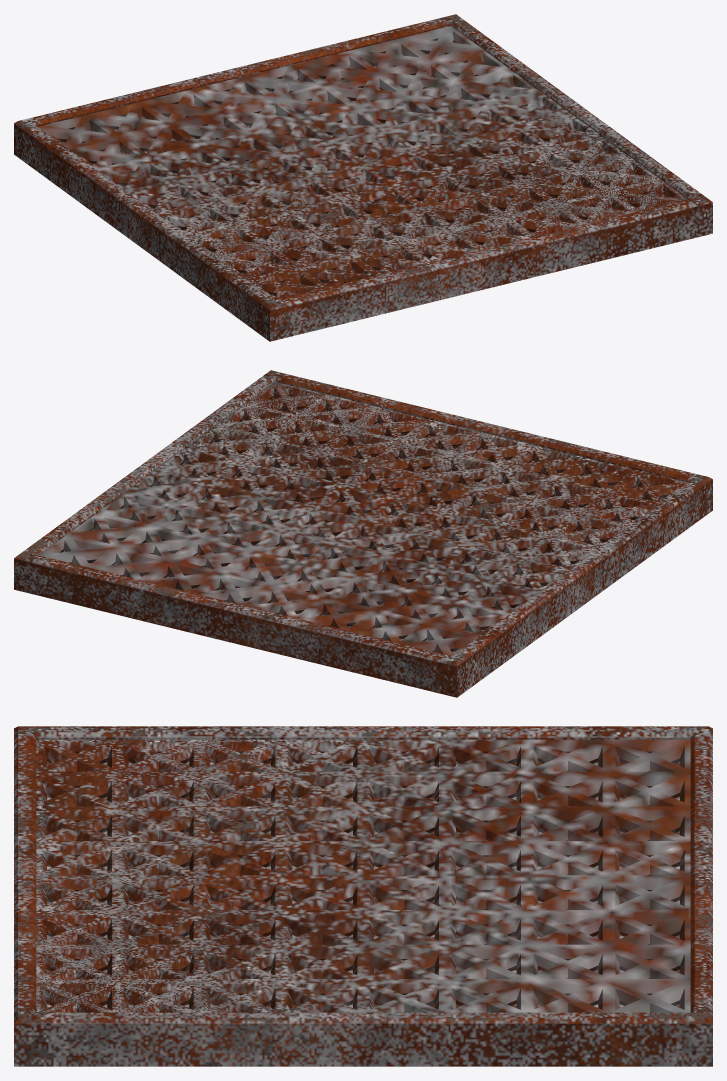
File: Elevator.fbx
3 views of the same model, one above another, from view 1: azimuth 30°, elevation 25°; view 2: azimuth 150°, elevation 25°; view 3: azimuth 270°, elevation 25° (orthographic). The views are drawn at different scales.
Parts seen in each view (by area): view 1: Platform.001; view 2: Platform.001; view 3: Platform.001.
Boxes of the visible parts, x1,y1,x2,y2 form: Platform.001: (14,14,712,341); Platform.001: (14,370,712,697); Platform.001: (14,726,712,1066).
Bounding box in the file's own units: 287 × 20.98 × 287.
1 material, 1 textured.
